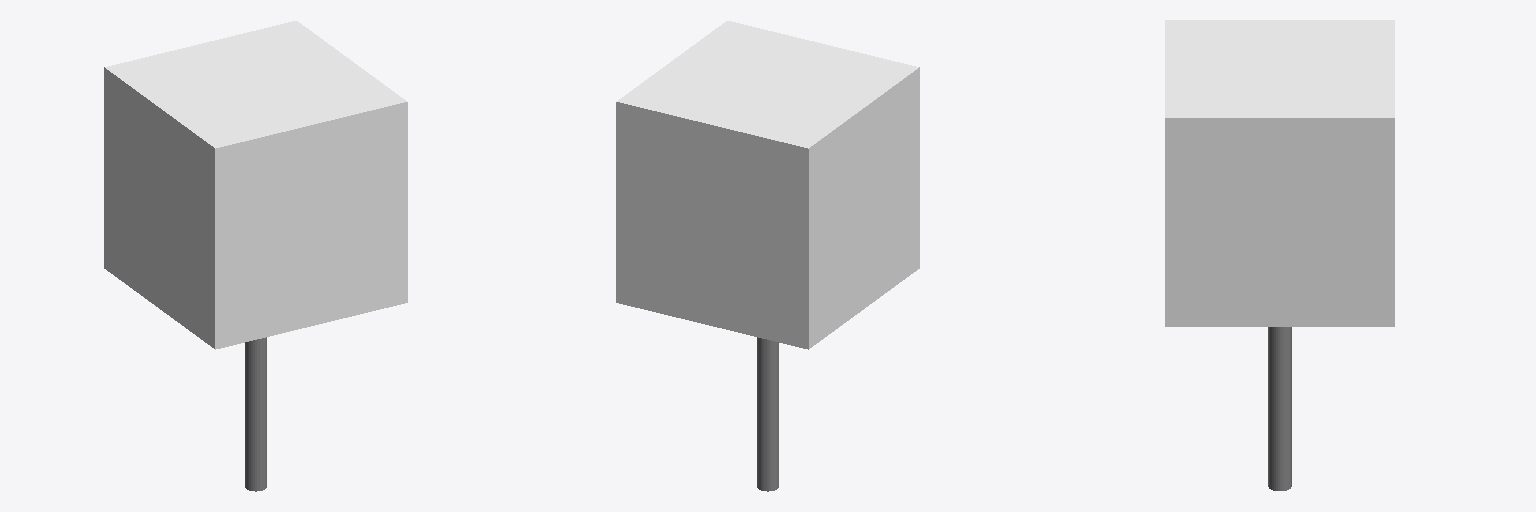
URDF robot description (reachbot):
<!-- TODO -->
<!-- Refine all mass/inertia values (MOST ARE WRONG) -->
<!-- Refine effort and velocity limits -->

<robot name="reachbot">
    <link name="body_link">
        <self_collide>false</self_collide>
        <visual name="body_visual">
            <origin rpy="0 0 0" xyz="0 0 0"/>
            <geometry>
                <box size="1 1 1"/>
            </geometry>
            <material name="reachbot_material">
                <!-- White -->
                <color rgba="1 1 1 1"/>
            </material>
        </visual>
        <collision name="body_collision">
            <origin rpy="0 0 0" xyz="0 0 0"/>
            <geometry>
                <box size="1 1 1"/>
            </geometry>
        </collision>
        <inertial>
            <origin rpy="0 0 0" xyz="0 0 0"/>
            <mass value="10"/>
            <!-- TODO determine inertia values, these are WRONG -->
            <inertia ixx="0.09725221" ixy="0" ixz="0" iyy="0.17358033" iyz="0" izz="0.12721354"/>
        </inertial>
    </link>


    <!-- END EFFECTOR -->

    <link name="ee_link">
        <self_collide>false</self_collide>
        <visual name="ee_link_visual">
            <geometry>
                <cylinder radius="0.05" length="1"/>
            </geometry>
            <material name="ee_material">
                <!-- Gray -->
                <color rgba="0.6 0.6 0.6 1"/>
            </material>
        </visual>
        <collision name="ee_link_collision">
            <geometry>
                <cylinder radius="0.05" length="1"/>
            </geometry>
        </collision>
        <!-- For now, ignoring any inertia from this link (purely visual) -->
        <inertial>
            <mass value="0"/>
            <inertia ixx="0" ixy="0" ixz="0" iyy="0" iyz="0" izz="0"/>
        </inertial>
    </link>

    <joint name="ee_joint" type="fixed">
        <parent link="body_link"/>
        <child link="ee_link"/>
        <origin rpy="0 0 0" xyz="0 0 -1"/>
    </joint>

</robot>

--- Render facts (derived) ---
Views: 3 orthographic renders of the robot side by side, from view 1: azimuth 30°, elevation 25°; view 2: azimuth 150°, elevation 25°; view 3: azimuth 270°, elevation 25°.
Model reachbot with 2 links and 1 joints (1 fixed), rooted at body_link, posed every joint at zero.
Visible links, largest first — view 1: body_link, ee_link; view 2: body_link, ee_link; view 3: body_link, ee_link.
Boxes of the visible links, x1,y1,x2,y2 form: body_link: (104,21,407,349); ee_link: (245,337,266,491); body_link: (616,21,919,349); ee_link: (757,337,778,491); body_link: (1165,20,1394,326); ee_link: (1268,327,1291,490).
Size in the robot's own frame: 1 by 1 by 2 metres.
Geometry: primitives only (box / cylinder / sphere), no mesh files.